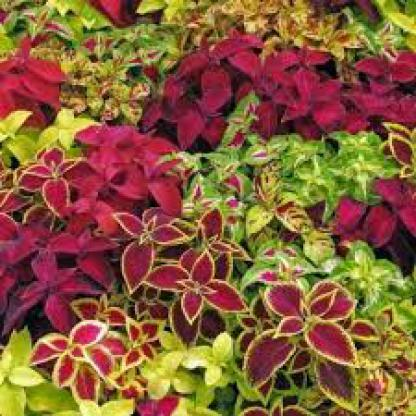Bunga Coleus: (16, 20, 393, 402)
